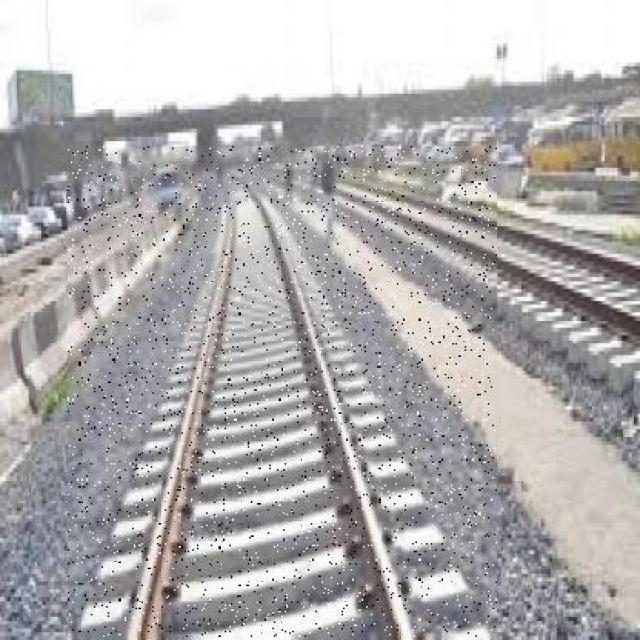rail: (68, 147, 496, 637), (287, 172, 640, 361)
